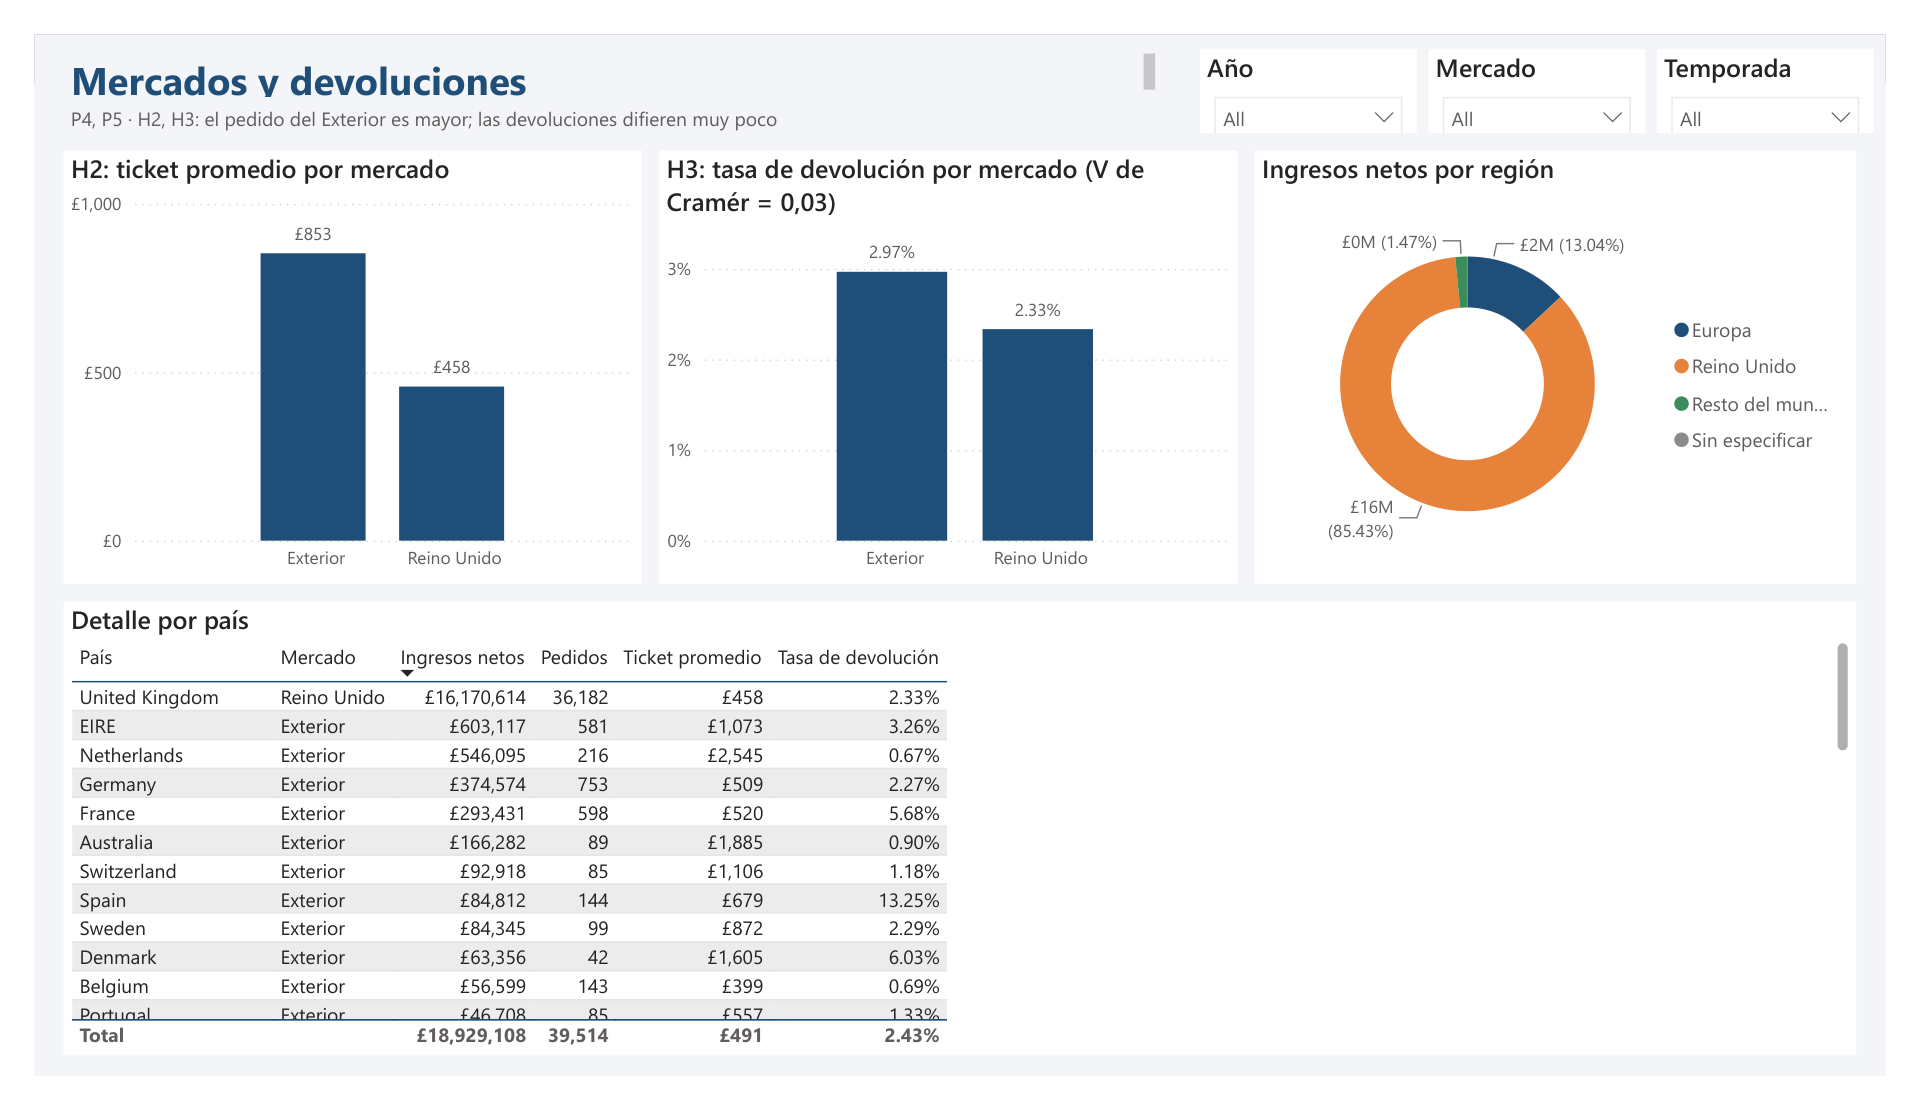

What the dashboard file says about the page in this screenshot:
{"tool":"powerbi","page":{"name":"Mercados y devoluciones","canvas":[1280,720],"ordinal":3},"visuals":[{"type":"textbox","box":[20,8,760,40],"z":1000},{"type":"textbox","box":[20,44,760,28],"z":2000},{"type":"slicer","title":"Año","fields":{"Values":["dim_fecha.anio"]},"box":[806,10,150,58],"z":3000},{"type":"slicer","title":"Mercado","fields":{"Values":["dim_pais.pais_grupo"]},"box":[964,10,150,58],"z":4000},{"type":"slicer","title":"Temporada","fields":{"Values":["dim_fecha.temporada"]},"box":[1122,10,150,58],"z":5000},{"type":"clusteredColumnChart","title":"H2: ticket promedio por mercado","fields":{"Category":["dim_pais.pais_grupo"],"Y":["_Medidas.Ticket Promedio"]},"box":[20,80,400,300],"z":6000},{"type":"clusteredColumnChart","title":"H3: tasa de devolución por mercado (V de Cramér = 0,03)","fields":{"Category":["dim_pais.pais_grupo"],"Y":["_Medidas.Tasa Devolución"]},"box":[432,80,400,300],"z":7000},{"type":"donutChart","title":"Ingresos netos por región","fields":{"Category":["dim_pais.region"],"Y":["_Medidas.Ingresos Netos"]},"box":[844,80,416,300],"z":8000},{"type":"tableEx","title":"Detalle por país","fields":{"Values":["dim_pais.pais","dim_pais.pais_grupo","_Medidas.Ingresos Netos","_Medidas.Pedidos","_Medidas.Ticket Promedio","_Medidas.Tasa Devolución"]},"box":[20,392,1240,314],"z":9000}]}

Visuals, with their boxes in screenshot pixels (x1, y1, x2, y2), scaled from the page's 1280x720 canvas onto the 1920x1111 screenshot:
textbox: 30/12/1170/74
textbox: 30/68/1170/111
"Año" slicer: 1209/15/1434/105
"Mercado" slicer: 1446/15/1671/105
"Temporada" slicer: 1683/15/1908/105
"H2: ticket promedio por mercado" clusteredColumnChart: 30/123/630/586
"H3: tasa de devolución por mercado (V de Cramér = 0,03)" clusteredColumnChart: 648/123/1248/586
"Ingresos netos por región" donutChart: 1266/123/1890/586
"Detalle por país" tableEx: 30/605/1890/1089
